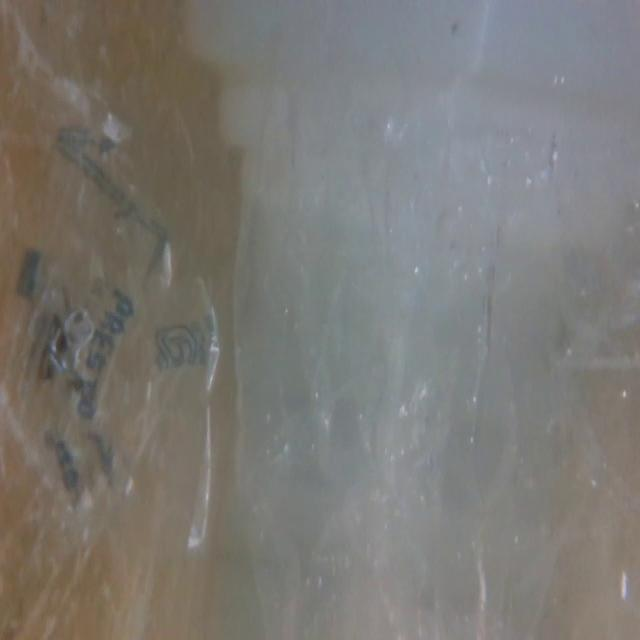plastic bags: (242, 68, 510, 620), (7, 129, 218, 563)
